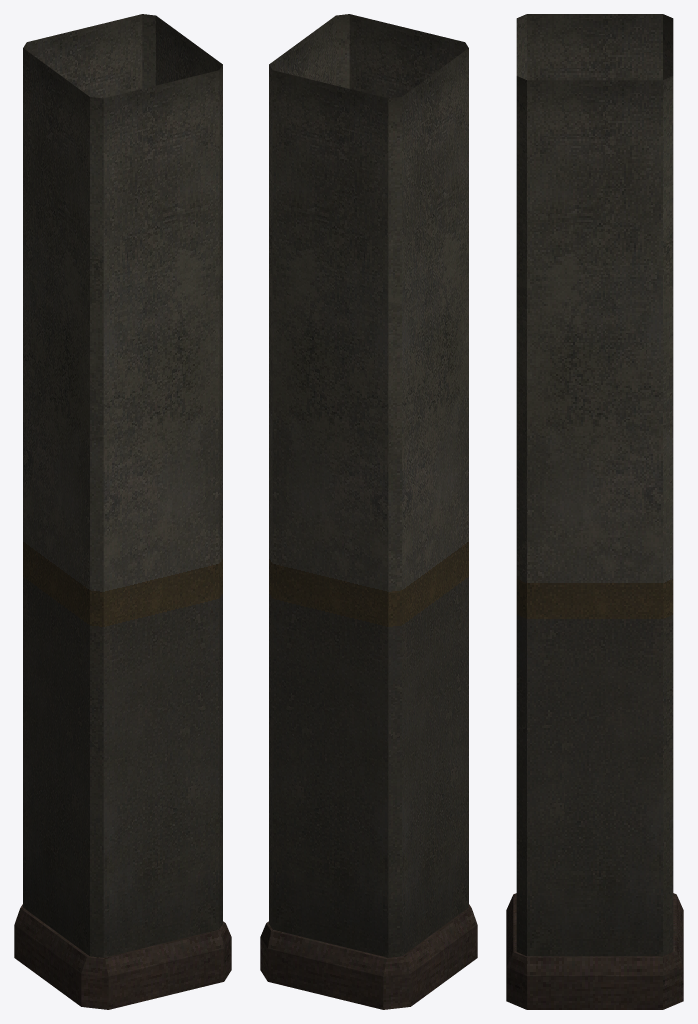
Rendered from pillar_1.glb.
3 renders of one model, left to right at view 1: azimuth 30°, elevation 25°; view 2: azimuth 150°, elevation 25°; view 3: azimuth 270°, elevation 25°, orthographic.
Parts seen in each view (by area): view 1: pillar_1; view 2: pillar_1; view 3: pillar_1.
Part boxes in pixels (<box>): pillar_1: <box>14,14,231,1009</box>; pillar_1: <box>260,14,477,1009</box>; pillar_1: <box>506,14,683,1009</box>.
Bounding box in the file's own units: 0.52 × 3 × 0.52.
Materials: 2 (2 with a texture image).
